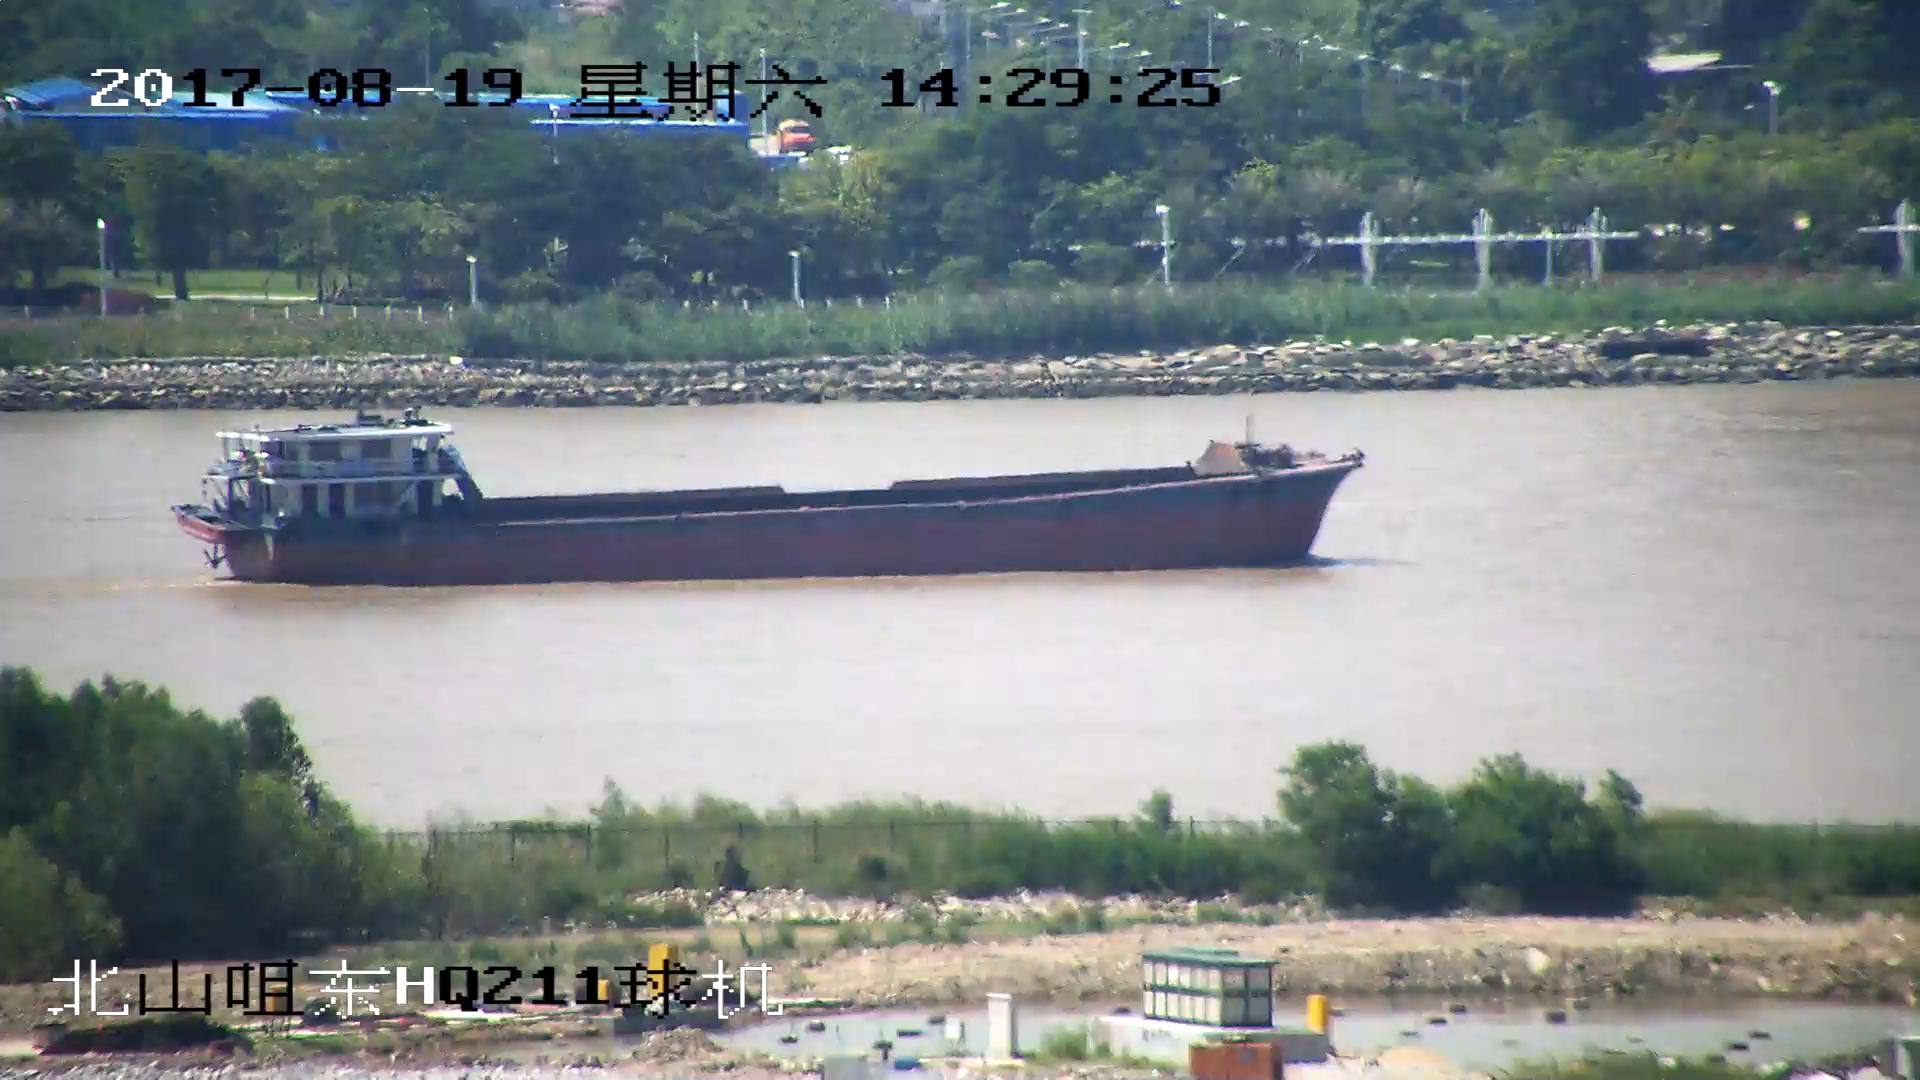bulk cargo carrier: (165, 411, 1368, 590)
